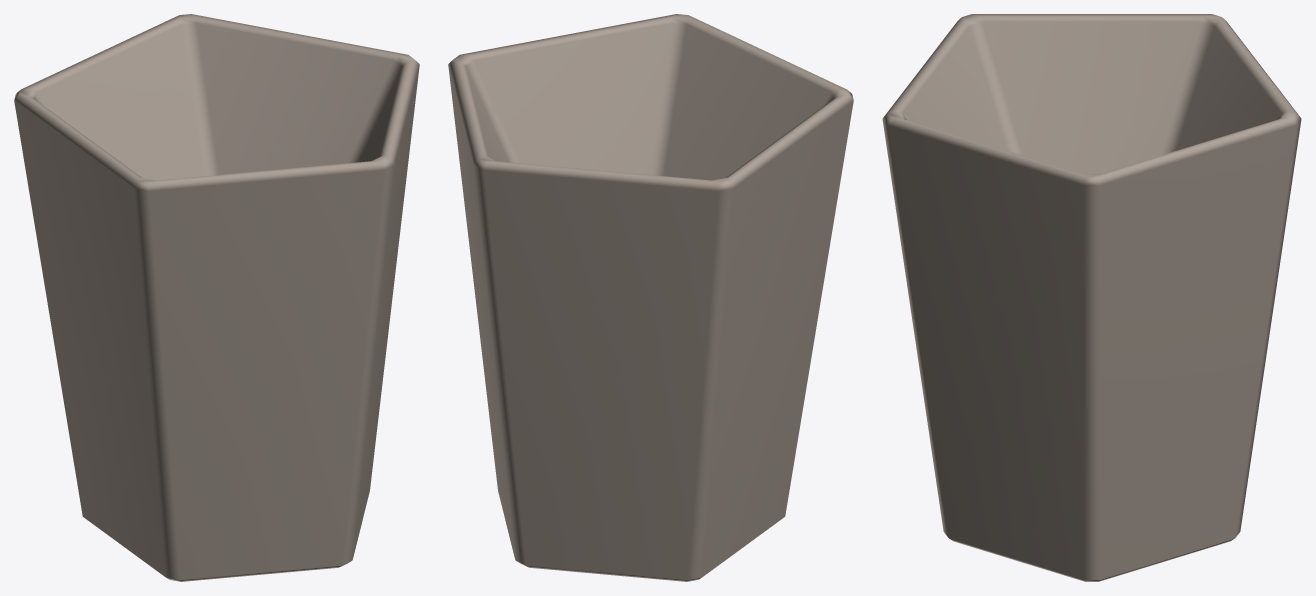
The model's file is bouquet_low 1.fbx.
3 renders of one model, left to right at view 1: azimuth 30°, elevation 25°; view 2: azimuth 150°, elevation 25°; view 3: azimuth 270°, elevation 25°, orthographic.
Parts seen in each view (by area): view 1: bouquet_low; view 2: bouquet_low; view 3: bouquet_low.
Part boxes in pixels (x1=…): bouquet_low: x1=14, y1=14, x2=419, y2=581; bouquet_low: x1=448, y1=14, x2=853, y2=581; bouquet_low: x1=882, y1=14, x2=1301, y2=581.
Bounding box in the file's own units: 2.51 × 2.98 × 2.64.
